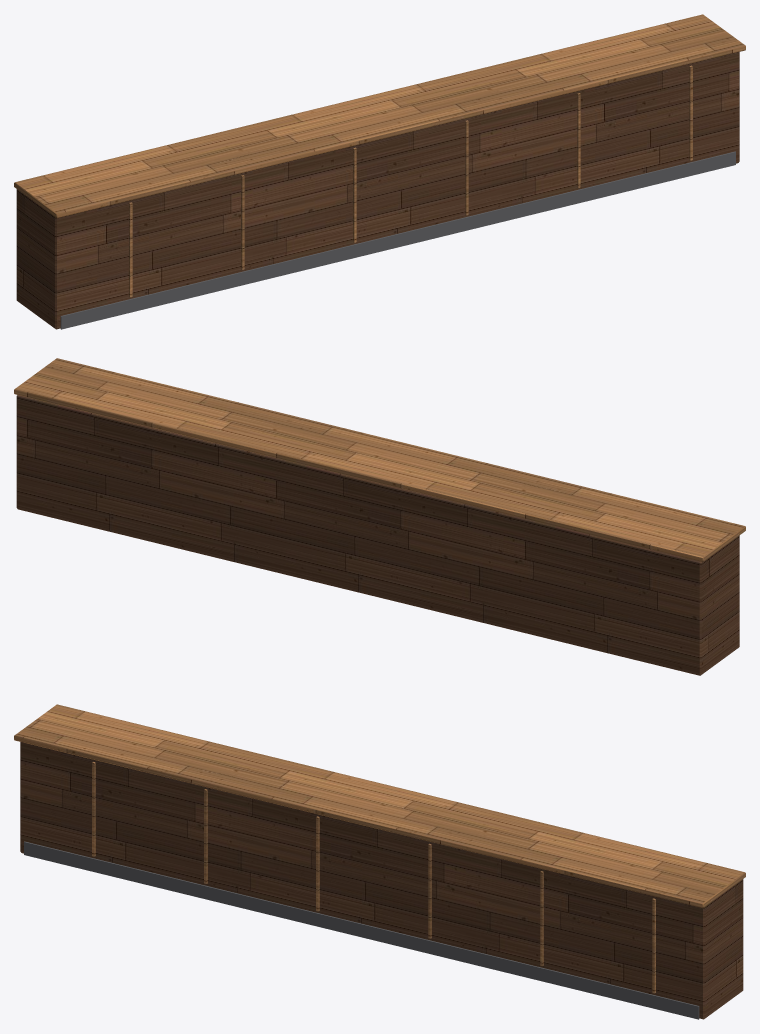
File: counter_k.glb
The picture shows the model from 3 angles, top to bottom: view 1: azimuth 30°, elevation 25°; view 2: azimuth 150°, elevation 25°; view 3: azimuth 330°, elevation 25°; orthographic projection.
Parts seen in each view (by area): view 1: counter_k_dkwood, counter_k_wood, counter_k_dark; view 2: counter_k_dkwood, counter_k_wood; view 3: counter_k_dkwood, counter_k_wood, counter_k_dark.
Boxes of the visible parts, left/top/right/bottom form: counter_k_dkwood: left=16, top=52, right=739, bottom=329; counter_k_wood: left=14, top=14, right=745, bottom=297; counter_k_dark: left=60, top=151, right=735, bottom=329; counter_k_dkwood: left=16, top=395, right=739, bottom=675; counter_k_wood: left=14, top=358, right=745, bottom=561; counter_k_dkwood: left=20, top=742, right=743, bottom=1019; counter_k_wood: left=14, top=704, right=745, bottom=993; counter_k_dark: left=24, top=841, right=699, bottom=1019.
Size of the model in its own units: 5.54 by 0.92 by 0.6.
Materials: 3 (2 with a texture image).
